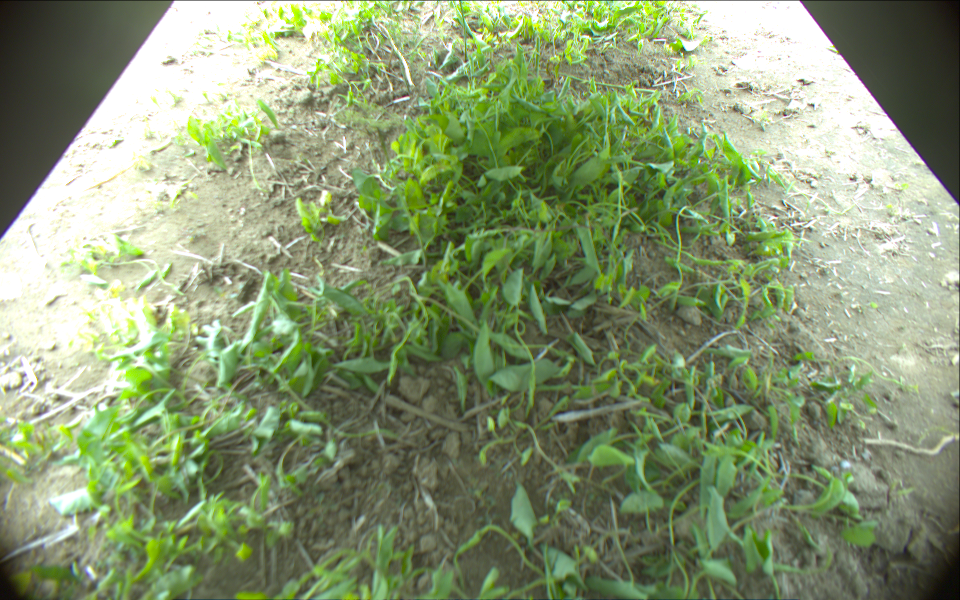aspa: (375, 20, 417, 88), (549, 69, 661, 94), (456, 1, 468, 61)
